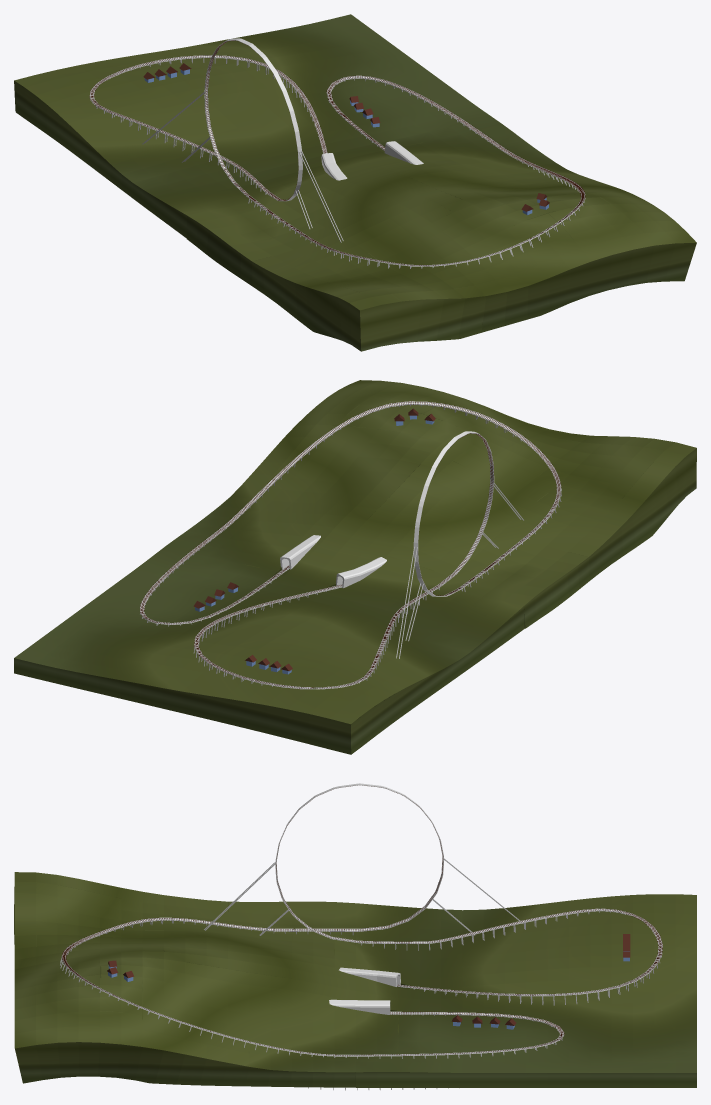
Rendered from Train1.fbx.
The picture shows the model from 3 angles, top to bottom: view 1: azimuth 30°, elevation 25°; view 2: azimuth 150°, elevation 25°; view 3: azimuth 270°, elevation 25°; orthographic projection.
Visible parts, largest first — view 1: Items Train Set; view 2: Items Train Set; view 3: Items Train Set.
Part boxes in pixels (x1=…): Items Train Set: x1=14, y1=14, x2=696, y2=351; Items Train Set: x1=14, y1=380, x2=696, y2=754; Items Train Set: x1=14, y1=783, x2=696, y2=1090.
Bounding box in the file's own units: 88.05 × 47.65 × 156.
